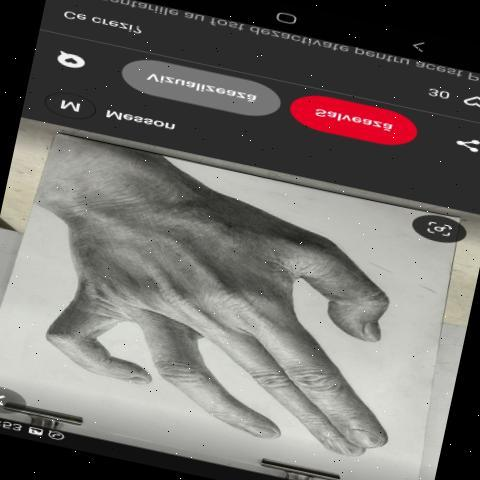Hands: (25, 157, 419, 463)
